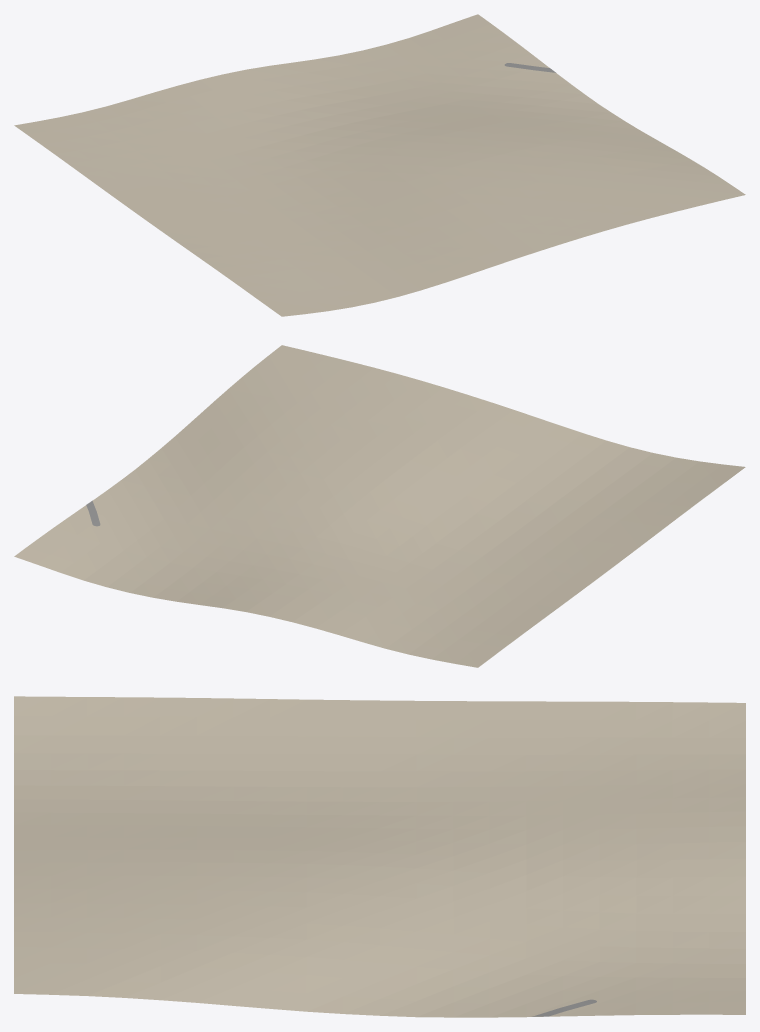
Rendered from bolak_-16_6.glb.
The picture shows the model from 3 angles, top to bottom: view 1: azimuth 30°, elevation 25°; view 2: azimuth 150°, elevation 25°; view 3: azimuth 270°, elevation 25°; orthographic projection. The views are drawn at different scales.
Visible parts, largest first — view 1: Yer_Tuproq-col; view 2: Yer_Tuproq-col; view 3: Yer_Tuproq-col.
Part boxes in pixels (x1=…): Yer_Tuproq-col: x1=14, y1=14, x2=745, y2=316; Yer_Tuproq-col: x1=14, y1=345, x2=745, y2=667; Yer_Tuproq-col: x1=14, y1=696, x2=745, y2=1017.
Size of what is drawn, in the model's own units: 400 by 19.6 by 400.
